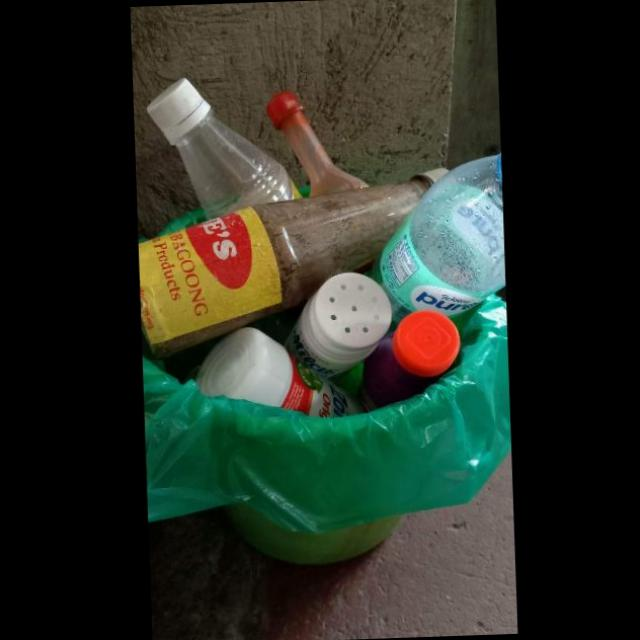chai_nhua_pet: (360, 152, 505, 325), (142, 75, 309, 219)
chai_thuy_tinh: (138, 164, 450, 356)
